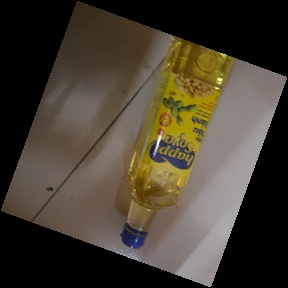Happy Soya: (119, 24, 240, 251)
